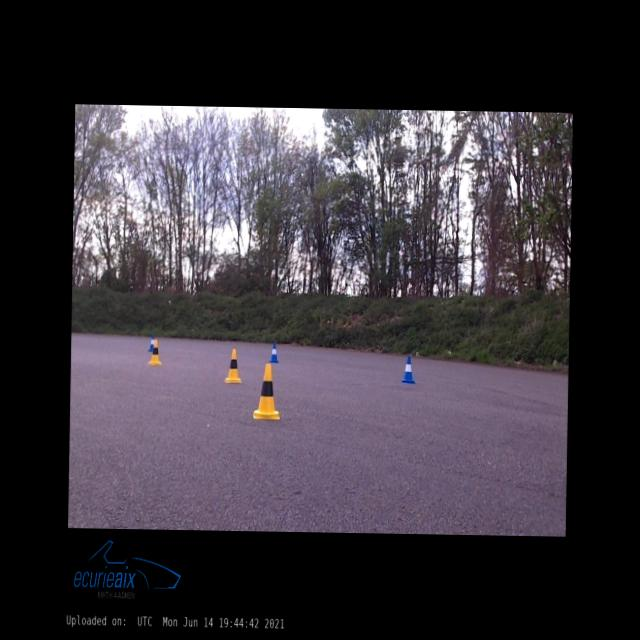blue_cone: (401, 356, 414, 384), (269, 342, 278, 362), (148, 335, 153, 351)
yellow_cone: (253, 362, 280, 420), (224, 348, 242, 382), (148, 338, 162, 364)
